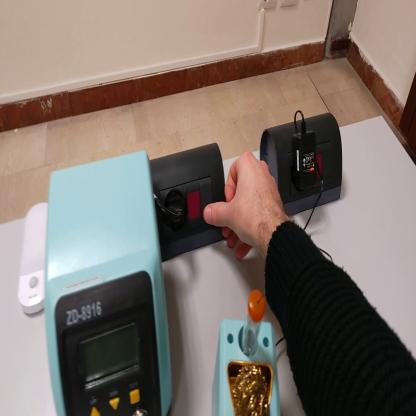hand: (205, 152, 287, 252)
socket: (261, 111, 345, 220), (151, 144, 227, 262)
welder base: (212, 288, 281, 415)
welder station: (46, 137, 176, 415)
